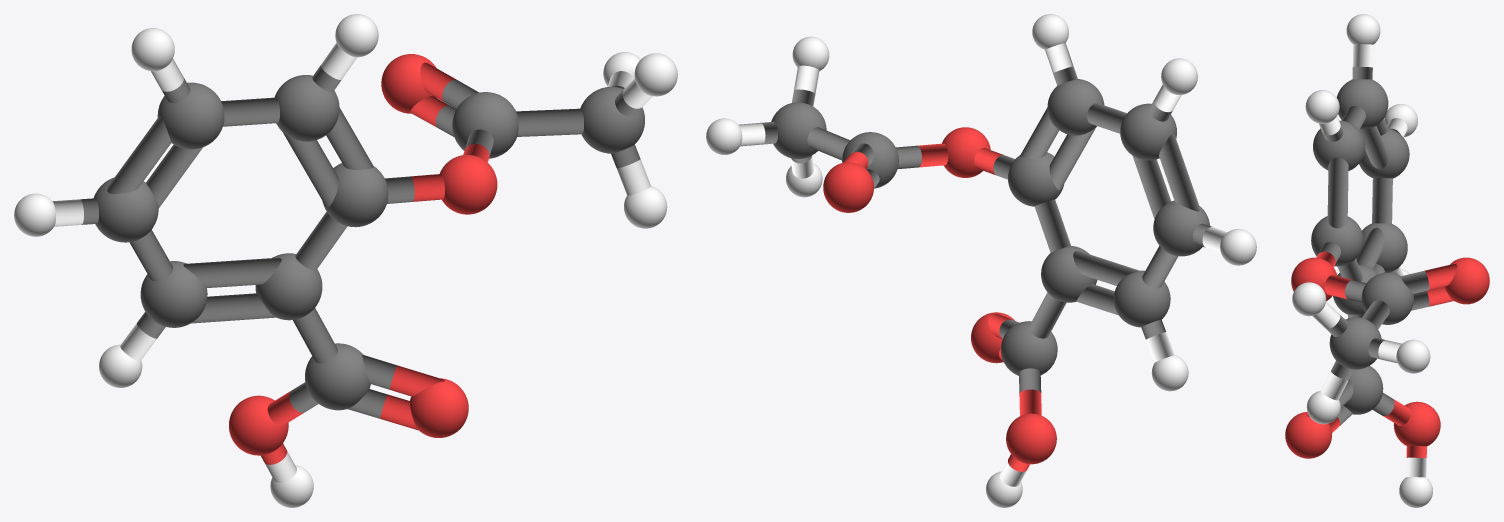
File: aspirin.glb
3 views of the same model, side by side, from view 1: azimuth 30°, elevation 25°; view 2: azimuth 150°, elevation 25°; view 3: azimuth 270°, elevation 25° (orthographic). The views are drawn at different scales.
Visible parts, largest first — view 1: aspirin; view 2: aspirin; view 3: aspirin.
Part boxes in pixels (left/top/right/bottom): aspirin: left=14, top=14, right=677, bottom=507; aspirin: left=706, top=14, right=1256, bottom=507; aspirin: left=1285, top=14, right=1489, bottom=507.
Size of the model in its own units: 8.55 by 6.98 by 3.05.
